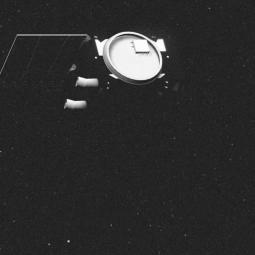proba_3_csc: (6, 31, 186, 121)
